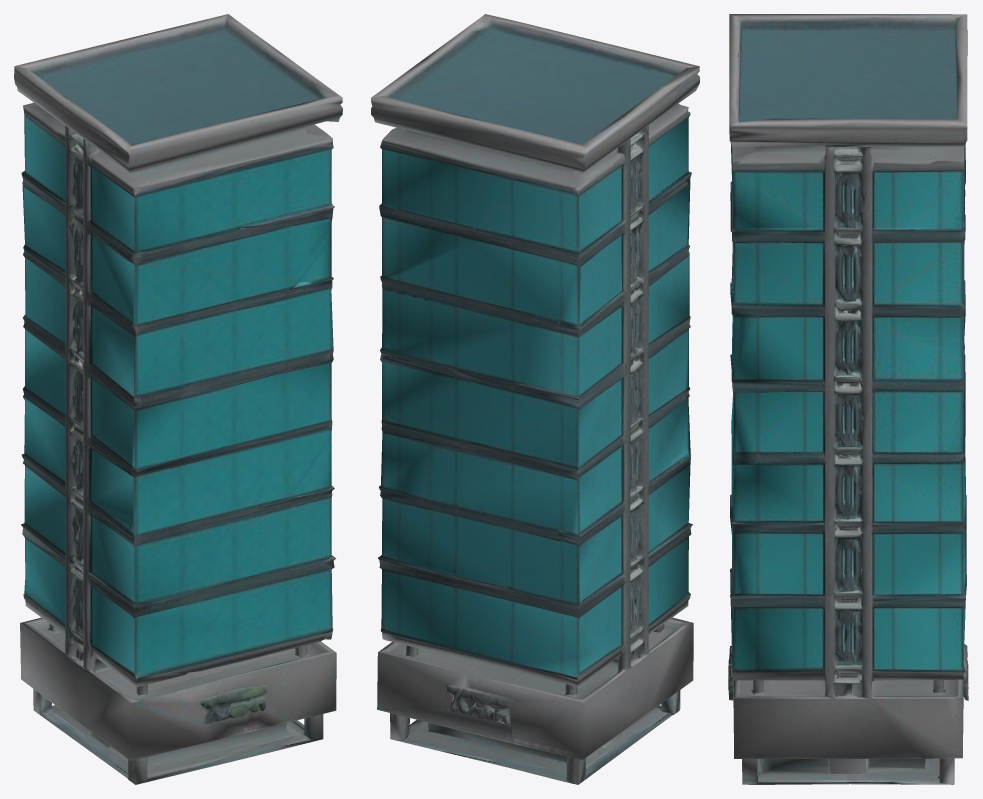
Rendered from office_tower.glb.
3 views of the same model, side by side, from view 1: azimuth 30°, elevation 25°; view 2: azimuth 150°, elevation 25°; view 3: azimuth 270°, elevation 25° (orthographic). The views are drawn at different scales.
Bounding box in the file's own units: 0.6637 × 1.9 × 0.6181.
Materials: 1 (1 with a texture image).
